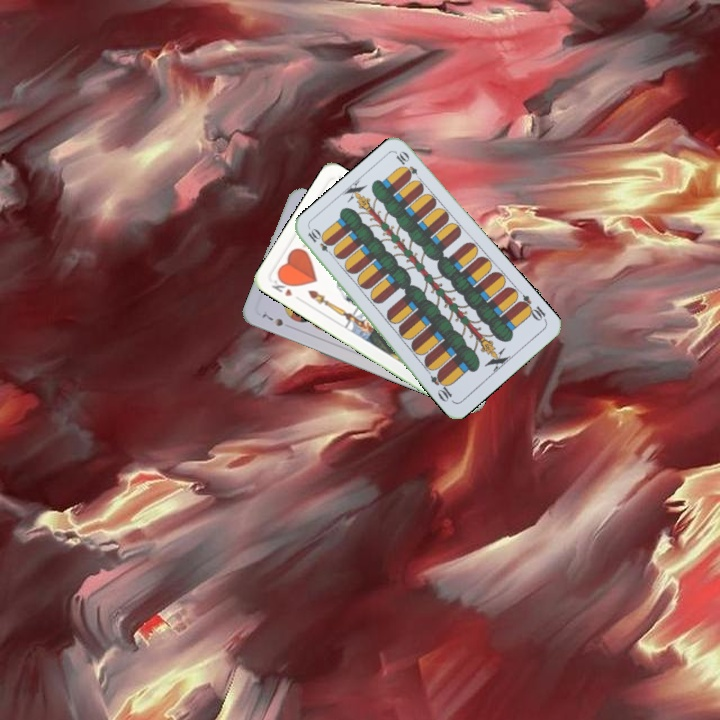E10: (304, 225, 337, 260), (514, 291, 549, 324)
HK: (268, 273, 296, 299)
S7: (258, 309, 286, 329)
